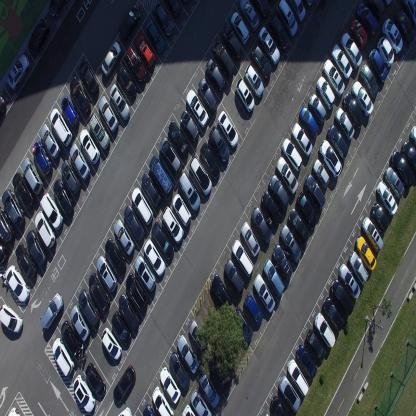car: (148, 154, 174, 200), (158, 136, 183, 177), (4, 264, 30, 302), (49, 107, 73, 148), (176, 334, 200, 374), (112, 364, 136, 403), (72, 374, 96, 413), (40, 191, 64, 230), (253, 273, 276, 313), (52, 337, 75, 377), (151, 221, 174, 261), (189, 156, 212, 196), (2, 188, 25, 228), (330, 278, 354, 316), (6, 53, 30, 91), (40, 293, 64, 331), (134, 254, 157, 293), (279, 224, 301, 264), (276, 154, 298, 194), (159, 365, 181, 405), (60, 320, 82, 360), (78, 288, 100, 328), (123, 204, 145, 244), (118, 292, 140, 332), (125, 273, 147, 313), (144, 238, 166, 278), (162, 205, 184, 245), (178, 172, 200, 212), (69, 76, 91, 116), (25, 228, 47, 268), (340, 32, 363, 70), (391, 149, 414, 187), (361, 215, 384, 253), (167, 119, 190, 157), (212, 40, 235, 78), (186, 88, 208, 127), (288, 208, 310, 247), (320, 139, 342, 178), (132, 187, 154, 226), (52, 177, 74, 216), (21, 156, 43, 195), (12, 171, 34, 210), (34, 210, 56, 249), (209, 274, 232, 311), (276, 0, 299, 37), (105, 237, 126, 277), (98, 94, 119, 134), (232, 238, 254, 276), (263, 258, 285, 296), (323, 58, 345, 96), (258, 26, 280, 64), (338, 262, 360, 300), (210, 355, 232, 393), (88, 273, 110, 311), (152, 0, 174, 38), (313, 312, 336, 348), (15, 242, 38, 278), (169, 351, 190, 390), (96, 254, 117, 293), (113, 218, 134, 257), (109, 82, 130, 121), (287, 359, 309, 396), (221, 23, 243, 60), (118, 4, 140, 41), (125, 45, 147, 82), (88, 112, 110, 149), (218, 109, 238, 149), (251, 206, 272, 244), (297, 192, 318, 230), (343, 91, 364, 129), (144, 17, 165, 55), (28, 18, 49, 56), (69, 142, 90, 180), (223, 258, 245, 294), (304, 172, 326, 208), (352, 80, 374, 116), (330, 43, 352, 79), (376, 180, 398, 216), (279, 376, 301, 412), (84, 361, 106, 397), (110, 310, 132, 346), (208, 125, 229, 162), (200, 142, 221, 179), (272, 243, 293, 280), (268, 14, 289, 51), (135, 33, 156, 70), (115, 61, 136, 98), (78, 58, 99, 95), (79, 127, 100, 164), (291, 121, 313, 156), (100, 41, 122, 76), (0, 303, 24, 335), (240, 220, 260, 258), (322, 297, 345, 330), (268, 174, 289, 210), (382, 18, 403, 54), (356, 235, 377, 271), (305, 327, 326, 363), (199, 372, 220, 408), (40, 123, 61, 159), (260, 190, 282, 224), (356, 2, 378, 36), (295, 344, 317, 378), (232, 306, 252, 343), (328, 123, 348, 160), (141, 172, 161, 209), (61, 159, 81, 196), (32, 140, 52, 177), (205, 58, 226, 93), (396, 8, 415, 46), (70, 304, 89, 342), (198, 78, 218, 114), (101, 326, 122, 360), (282, 137, 302, 172), (348, 250, 368, 285), (335, 106, 355, 140), (368, 47, 388, 81), (234, 78, 254, 112), (244, 64, 264, 98), (251, 45, 271, 79), (384, 166, 404, 200), (230, 10, 250, 44), (360, 62, 378, 99), (172, 192, 191, 227), (316, 76, 335, 110), (243, 292, 263, 324), (152, 386, 174, 415), (238, 0, 259, 30), (188, 319, 207, 352), (180, 110, 199, 142), (60, 96, 79, 128), (190, 389, 213, 415), (300, 105, 318, 138), (312, 158, 330, 190), (350, 18, 368, 50), (371, 201, 389, 233), (0, 205, 15, 243), (308, 92, 326, 123), (401, 139, 416, 176), (377, 36, 394, 67), (270, 394, 292, 416), (365, 0, 387, 19), (47, 0, 68, 19), (289, 0, 306, 23), (252, 0, 271, 19), (402, 0, 416, 25), (163, 0, 181, 18), (0, 242, 9, 265), (0, 94, 7, 122), (115, 405, 134, 415), (141, 403, 156, 415), (181, 404, 196, 415), (410, 124, 416, 146), (384, 0, 393, 8), (306, 0, 315, 8)
